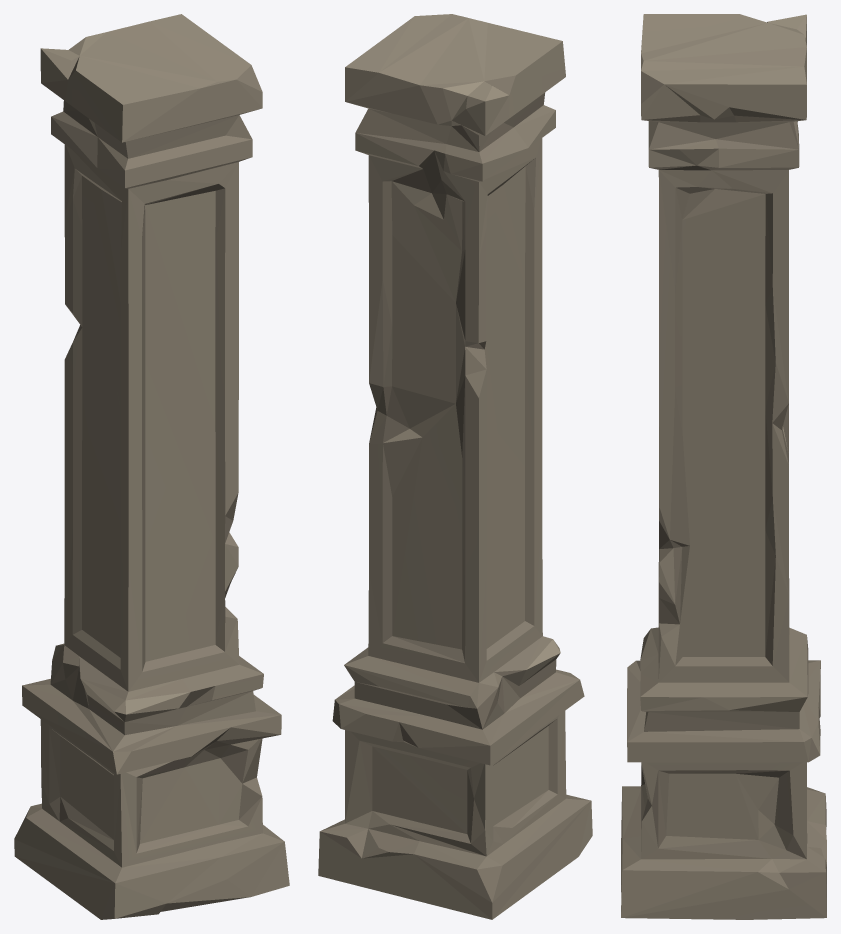
File: SM_Prop_Pillar_01.glb
3 views of the same model, side by side, from view 1: azimuth 30°, elevation 25°; view 2: azimuth 150°, elevation 25°; view 3: azimuth 270°, elevation 25° (orthographic). The views are drawn at different scales.
Parts seen in each view (by area): view 1: SM_Prop_Pillar_01; view 2: SM_Prop_Pillar_01; view 3: SM_Prop_Pillar_01.
Part boxes in pixels (left/top/right/bottom): SM_Prop_Pillar_01: left=14, top=14, right=289, bottom=919; SM_Prop_Pillar_01: left=318, top=14, right=592, bottom=919; SM_Prop_Pillar_01: left=621, top=14, right=826, bottom=919.
Bounding box in the file's own units: 0.6337 × 2.81 × 0.6337.
Materials: 1 (1 with a texture image).
